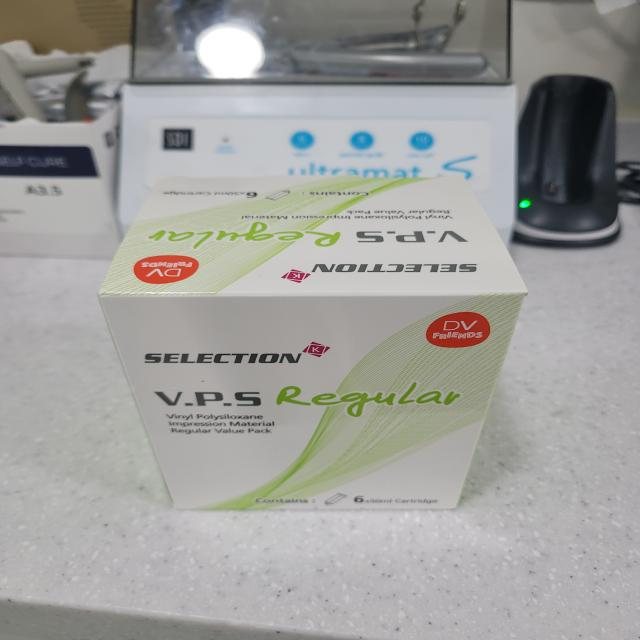impression: (89, 175, 522, 522)
